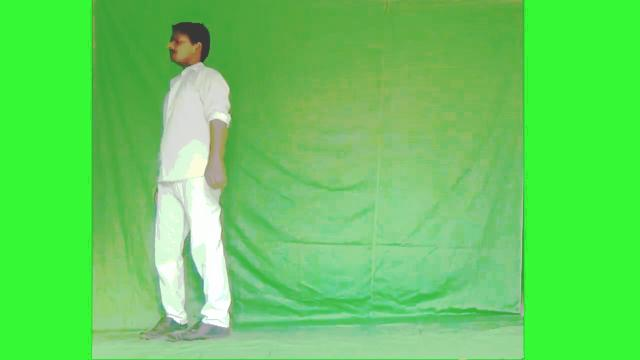berjalan: (142, 21, 240, 346)
